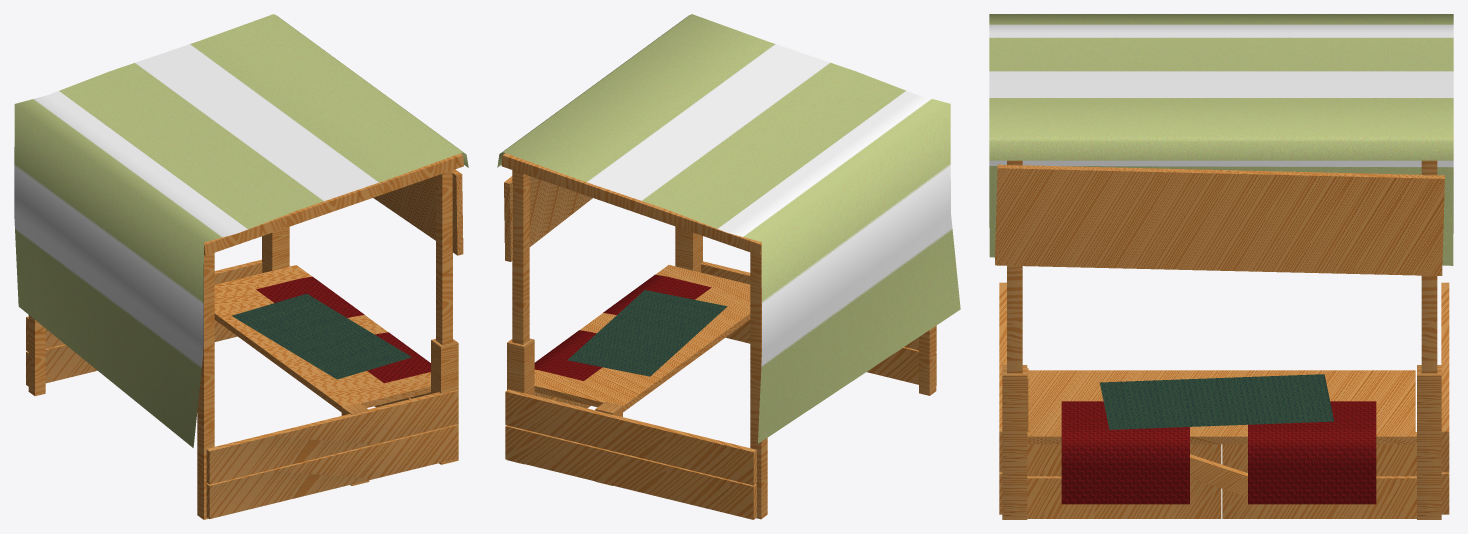
File: Puesto JF.fbx
3 views of the same model, side by side, from view 1: azimuth 30°, elevation 25°; view 2: azimuth 150°, elevation 25°; view 3: azimuth 270°, elevation 25° (orthographic). The views are drawn at different scales.
Parts seen in each view (by area): view 1: Plane004, Log019, Log018, Log006, Plane003, Log021, Log013, Log010, Log011, Log016, Plane002, Log (+4 smaller); view 2: Plane004, Log017, Log016, Log006, Plane003, Log022, Log010, Log014, Log012, Plane002, Log018, Log005 (+4 smaller); view 3: Plane004, Log010, Plane002, Log006, Plane001, Plane003, Log001, Log004, Log, Log005, Log003, Log012 (+5 smaller).
Part boxes in pixels (<box>): Plane004: <box>14,14,468,447</box>; Log019: <box>206,390,458,484</box>; Log018: <box>206,424,458,518</box>; Log006: <box>214,265,430,412</box>; Plane003: <box>232,293,411,379</box>; Log021: <box>204,153,463,255</box>; Log013: <box>197,253,214,519</box>; Log010: <box>373,169,463,255</box>; Log011: <box>436,170,452,344</box>; Log016: <box>26,320,237,386</box>; Plane002: <box>256,276,364,317</box>; Log: <box>431,338,458,464</box>; Plane004: <box>497,14,960,443</box>; Log017: <box>505,389,756,485</box>; Log016: <box>505,425,756,519</box>; Log006: <box>534,265,750,412</box>; Plane003: <box>567,290,727,376</box>; Log022: <box>501,153,761,255</box>; Log010: <box>504,176,592,261</box>; Log014: <box>750,252,767,519</box>; Log012: <box>512,170,529,344</box>; Plane002: <box>534,330,602,380</box>; Log018: <box>726,320,936,385</box>; Log005: <box>507,338,534,464</box>; Plane004: <box>989,14,1453,265</box>; Log010: <box>995,164,1444,275</box>; Plane002: <box>1248,401,1376,504</box>; Log006: <box>1028,370,1415,444</box>; Plane001: <box>1061,401,1189,504</box>; Plane003: <box>1099,374,1334,429</box>; Log001: <box>1027,476,1221,518</box>; Log004: <box>1222,476,1416,518</box>; Log: <box>1002,365,1027,519</box>; Log005: <box>1417,365,1441,519</box>; Log003: <box>1222,432,1416,476</box>; Log012: <box>1421,160,1437,373</box>.
Bounding box in the file's own units: 129 × 136 × 150.
